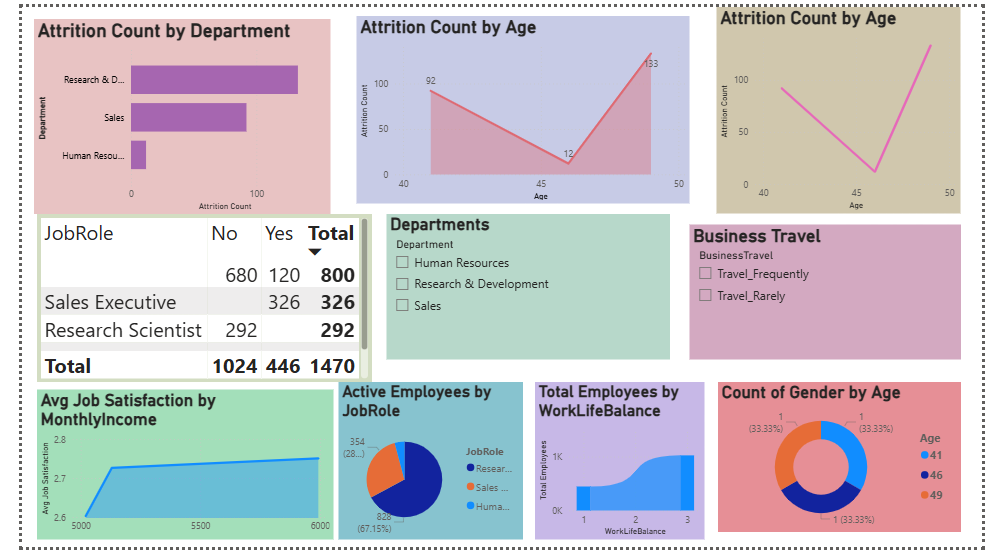

The page's visual inventory and layout, read from the dashboard file:
{"tool":"powerbi","page":{"name":"Attrition Analysis","canvas":[1280,720],"ordinal":1},"visuals":[{"type":"clusteredBarChart","fields":{"Category":["Dim_Department.Department"],"Y":["KPI_Measures.Attrition Count"]},"box":[15,15,395,260],"z":0},{"type":"pivotTable","fields":{"Rows":["Dim_JobRole.JobRole"],"Columns":["Dim_Department.Attrition"],"Values":["KPI_Measures.Total Employees"]},"box":[20,276,446,224],"z":1000},{"type":"slicer","title":"Business Travel","fields":{"Values":["Dim_Department.BusinessTravel"]},"box":[890,290,362,180],"z":2000},{"type":"slicer","title":"Departments","fields":{"Values":["Dim_Department.Department"]},"box":[486,276,378,194],"z":3000},{"type":"areaChart","fields":{"Category":["Dim_Department.Age"],"Y":["KPI_Measures.Attrition Count"]},"box":[446,12,444,250],"z":4000},{"type":"lineChart","fields":{"Y":["KPI_Measures.Attrition Count"],"Category":["Dim_Department.Age"]},"box":[925,0,325,275],"z":4001},{"type":"areaChart","fields":{"Category":["Dim_Department.MonthlyIncome"],"Y":["KPI_Measures.Avg Job Satisfaction"]},"box":[20,510,395,200],"z":4002},{"type":"pieChart","fields":{"Category":["Dim_Department.JobRole"],"Y":["KPI_Measures.Active Employees"]},"box":[422,500,246,210],"z":4003},{"type":"ribbonChart","fields":{"Category":["Dim_Department.WorkLifeBalance"],"Y":["KPI_Measures.Total Employees"]},"box":[684,500,226,210],"z":4004},{"type":"donutChart","fields":{"Category":["Dim_Department.Age"],"Y":["CountNonNull(Dim_Department.Gender)"]},"box":[928,500,324,200],"z":4006}]}

Visuals, with their boxes in screenshot pixels (x1, y1, x2, y2), scaled from the page's 1280x720 canvas onto the 991x553 screenshot:
clusteredBarChart - Dim_Department.Department x KPI_Measures.Attrition Count: {"x1": 12, "y1": 12, "x2": 317, "y2": 211}
pivotTable - Dim_JobRole.JobRole x Dim_Department.Attrition: {"x1": 15, "y1": 212, "x2": 361, "y2": 384}
"Business Travel" slicer: {"x1": 689, "y1": 223, "x2": 969, "y2": 361}
"Departments" slicer: {"x1": 376, "y1": 212, "x2": 669, "y2": 361}
areaChart - Dim_Department.Age x KPI_Measures.Attrition Count: {"x1": 345, "y1": 9, "x2": 689, "y2": 201}
lineChart - KPI_Measures.Attrition Count x Dim_Department.Age: {"x1": 716, "y1": 0, "x2": 968, "y2": 211}
areaChart - Dim_Department.MonthlyIncome x KPI_Measures.Avg Job Satisfaction: {"x1": 15, "y1": 392, "x2": 321, "y2": 545}
pieChart - Dim_Department.JobRole x KPI_Measures.Active Employees: {"x1": 327, "y1": 384, "x2": 517, "y2": 545}
ribbonChart - Dim_Department.WorkLifeBalance x KPI_Measures.Total Employees: {"x1": 530, "y1": 384, "x2": 705, "y2": 545}
donutChart - Dim_Department.Age x CountNonNull(Dim_Department.Gender): {"x1": 718, "y1": 384, "x2": 969, "y2": 538}
